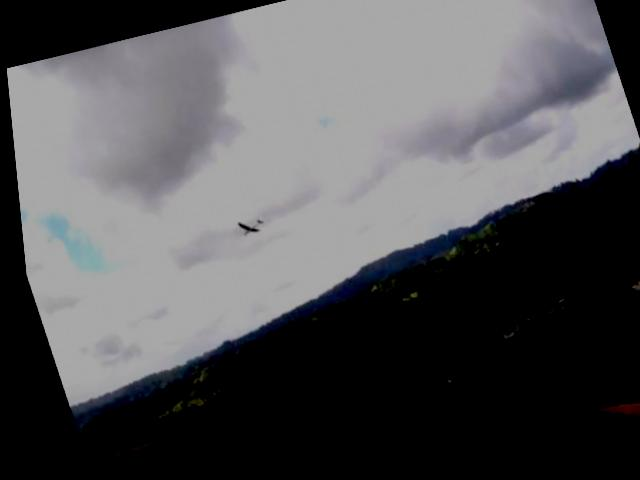iha: (228, 211, 263, 238)
